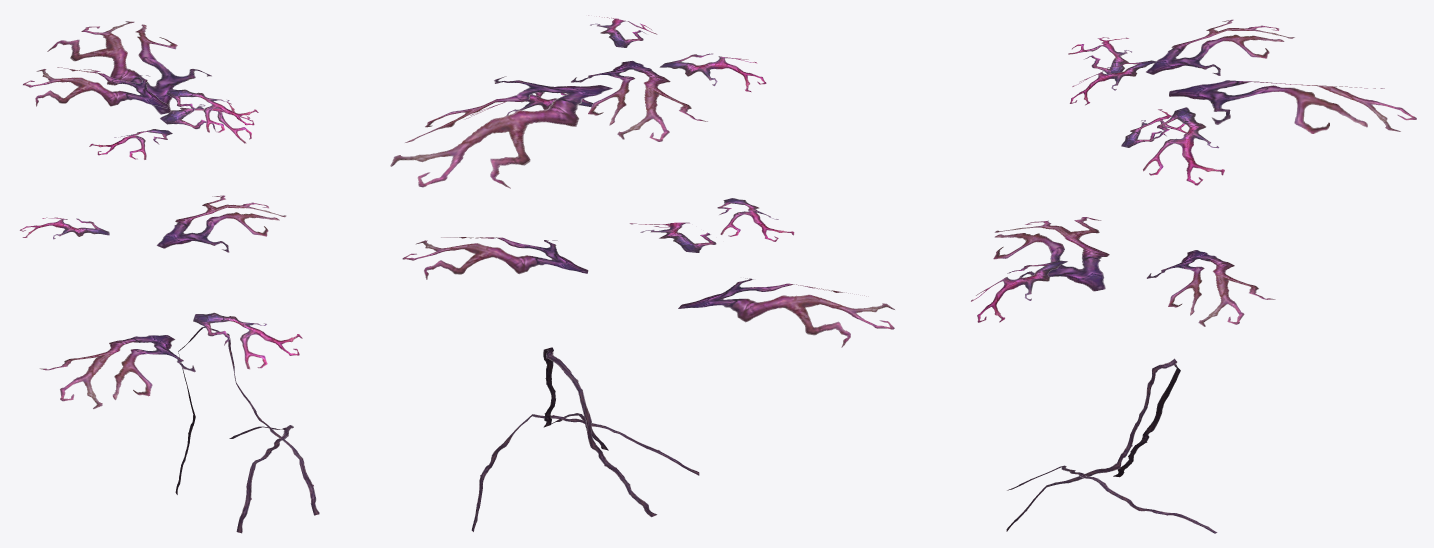
File: Yland2_sy_05 Yland2.FBX
3 renders of one model, left to right at view 1: azimuth 30°, elevation 25°; view 2: azimuth 150°, elevation 25°; view 3: azimuth 270°, elevation 25°, orthographic. The views are drawn at different scales.
Visible parts, largest first — view 1: Yland2_sy_05 Yland2; view 2: Yland2_sy_05 Yland2; view 3: Yland2_sy_05 Yland2.
Boxes of the visible parts, x1,y1,x2,y2 form: Yland2_sy_05 Yland2: (19, 21, 319, 533); Yland2_sy_05 Yland2: (390, 15, 894, 531); Yland2_sy_05 Yland2: (971, 19, 1416, 533).
Size of the model in its own units: 18.81 by 21.51 by 21.4.
